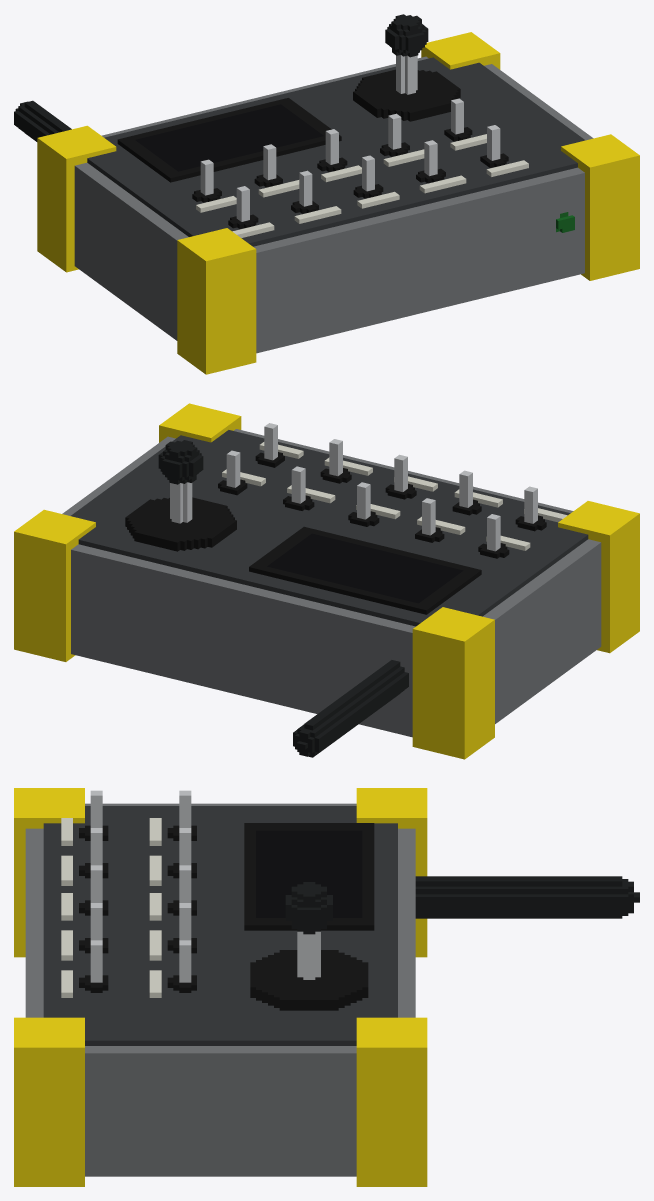
File: remotevehcontrol.glb
The picture shows the model from 3 angles, top to bottom: view 1: azimuth 30°, elevation 25°; view 2: azimuth 150°, elevation 25°; view 3: azimuth 270°, elevation 25°; orthographic projection. The views are drawn at different scales.
Visible parts, largest first — view 1: remotevehcontrol:compound; view 2: remotevehcontrol:compound; view 3: remotevehcontrol:compound.
Boxes of the visible parts, x1,y1,x2,y2 form: remotevehcontrol:compound: (14,14,639,374); remotevehcontrol:compound: (14,403,639,759); remotevehcontrol:compound: (14,788,639,1186).
Bounding box in the file's own units: 0.208 × 0.086 × 0.212.
